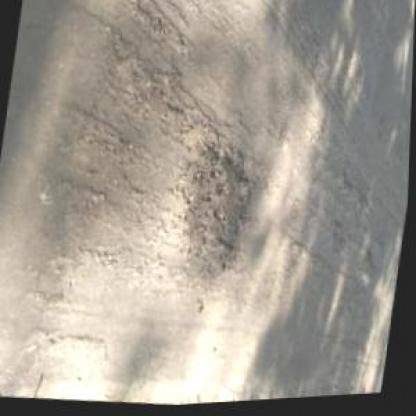pothole: (166, 140, 260, 280)
